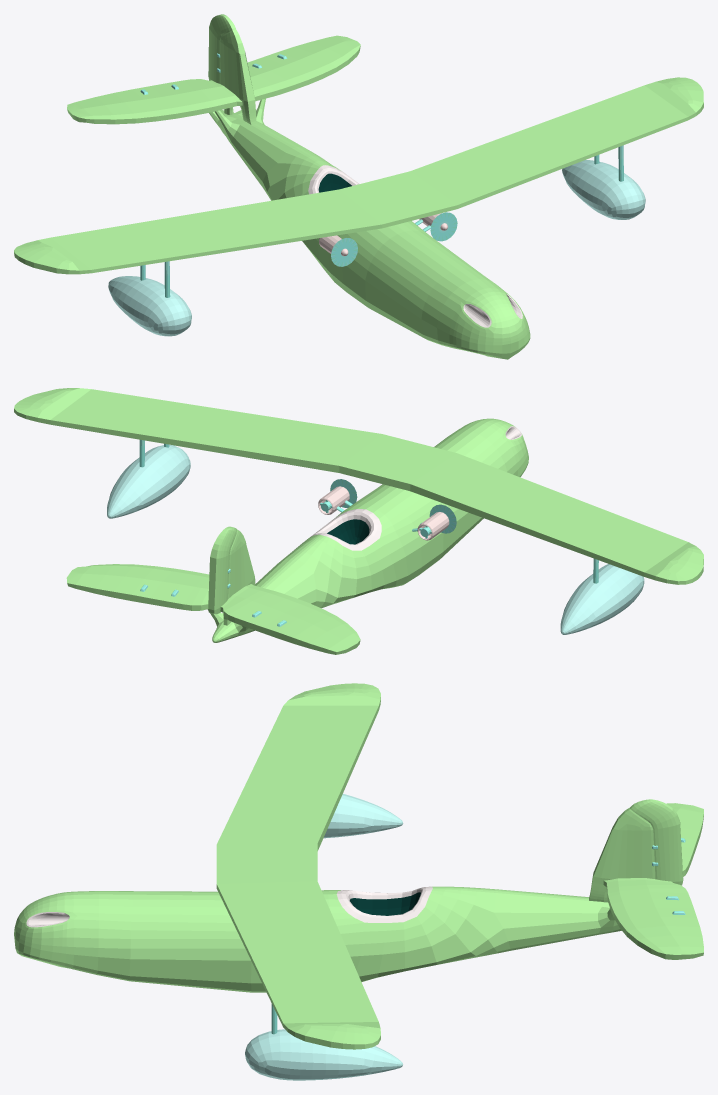
Rendered from Boomer.fbx.
The picture shows the model from 3 angles, top to bottom: view 1: azimuth 30°, elevation 25°; view 2: azimuth 150°, elevation 25°; view 3: azimuth 270°, elevation 25°; orthographic projection. The views are drawn at different scales.
Parts seen in each view (by area): view 1: Bomer; view 2: Bomer; view 3: Bomer.
Part boxes in pixels (x1,y1,x2,y2): Bomer: [14, 14, 703, 359]; Bomer: [14, 388, 703, 654]; Bomer: [14, 683, 703, 1080].
Size of the model in its own units: 820 by 183 by 645.
Materials: 1 (1 with a texture image).
